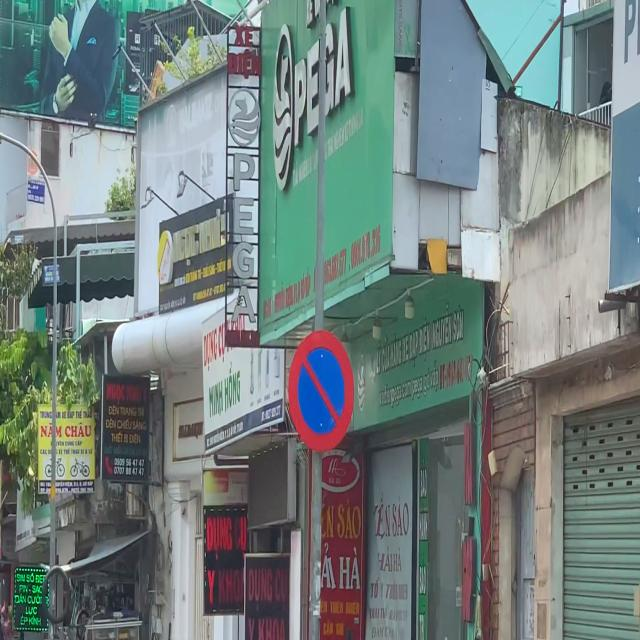Cam do: (288, 329, 355, 453)
